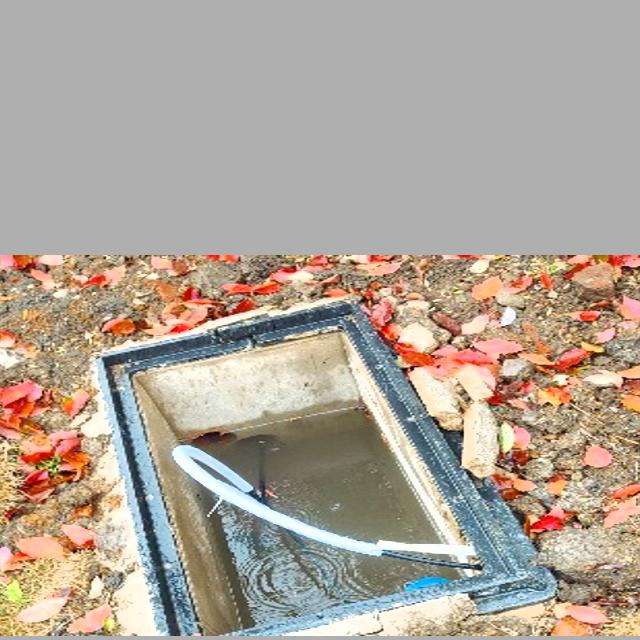lose: (95, 298, 565, 634)
